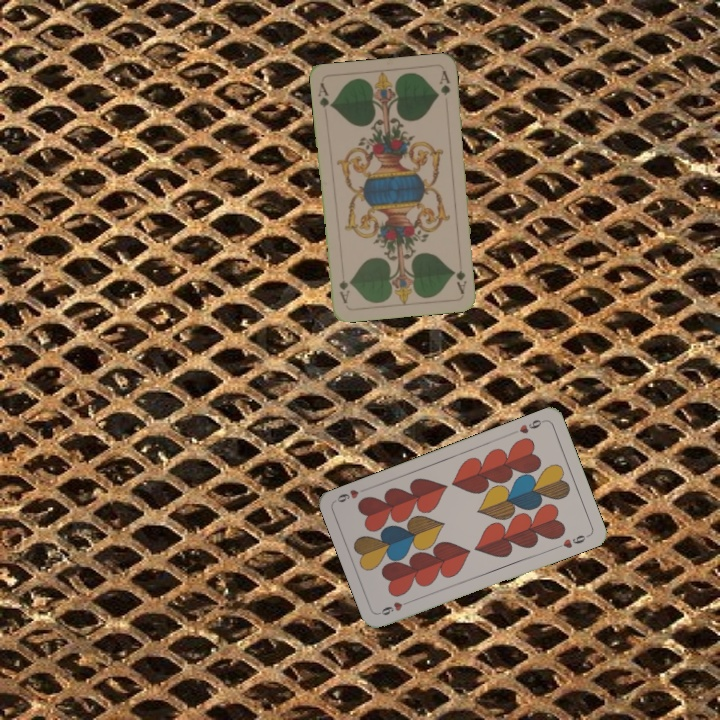GA: (314, 79, 335, 110), (452, 266, 469, 296)
H9: (375, 596, 415, 618), (508, 415, 547, 437)
